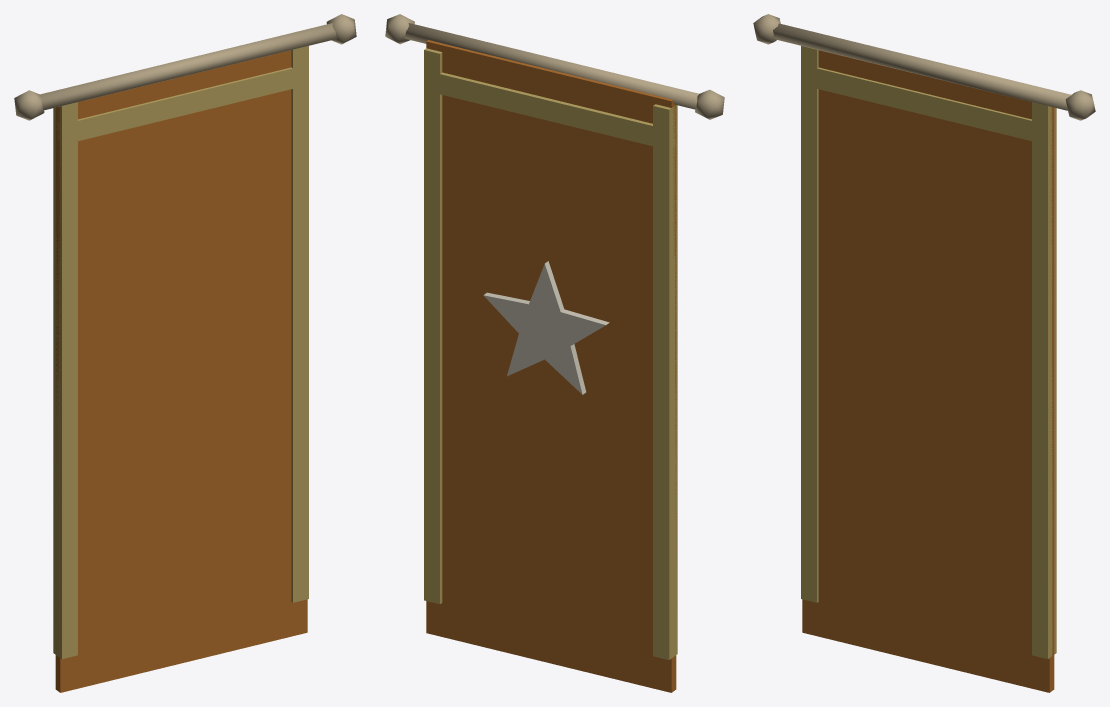
Rendered from corite_banner_v0.glb.
The picture shows the model from 3 angles, left to right: view 1: azimuth 30°, elevation 25°; view 2: azimuth 150°, elevation 25°; view 3: azimuth 330°, elevation 25°; orthographic projection.
Visible parts, largest first — view 1: corite_banner_v0; view 2: corite_banner_v0; view 3: corite_banner_v0.
Part boxes in pixels (x1,y1,x2,y2): corite_banner_v0: [14, 14, 356, 692]; corite_banner_v0: [385, 14, 724, 692]; corite_banner_v0: [753, 14, 1095, 692].
Bounding box in the file's own units: 1.04 × 1.8 × 0.0933.
